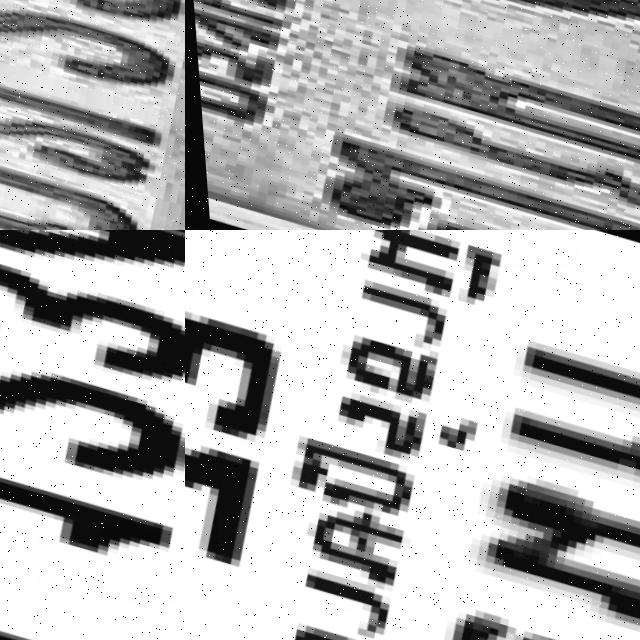license-plate: (185, 230, 640, 640), (185, 0, 640, 230), (0, 230, 185, 640), (0, 0, 185, 230)
